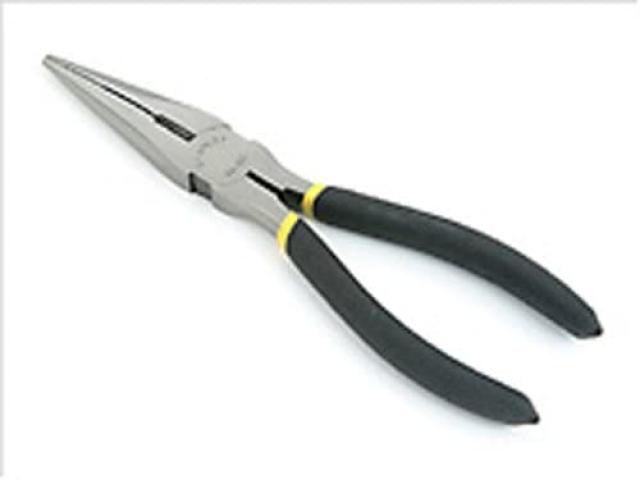Needle-nose pliers: (44, 55, 601, 422)
